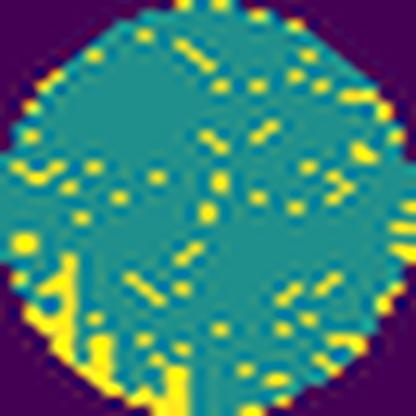Edge-Loc: (18, 243, 193, 415)
